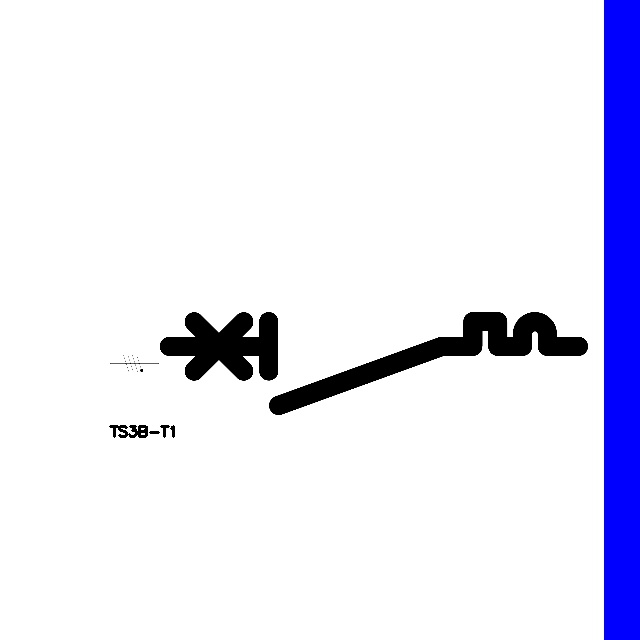interruptor_termomagnetico: (158, 311, 588, 416)
